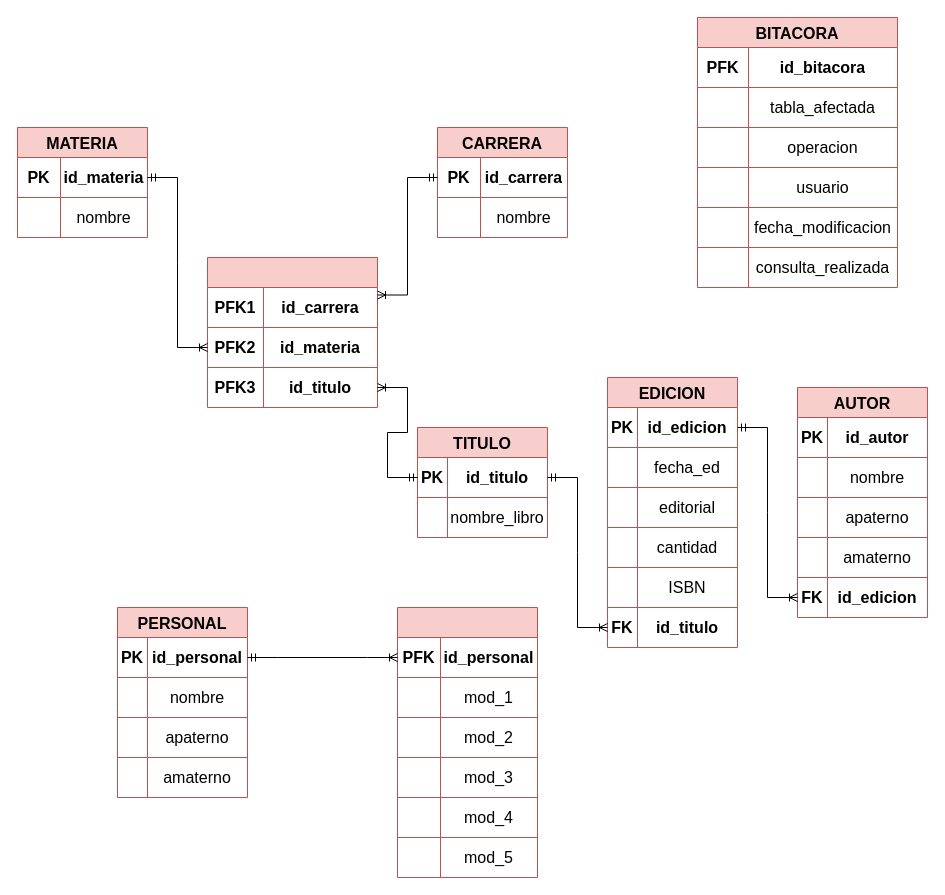
Image size: 945x895. Some labels were removed from this diagram. Here are the shapes that lost their labels. From the top down, the box of each, then its label:
(206, 256, 378, 408): REF_MAT_CARRERA
(396, 606, 538, 878): PRIVILEGIO
